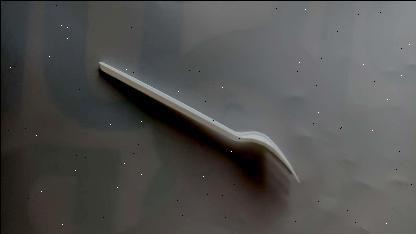Others: (96, 55, 306, 187)
